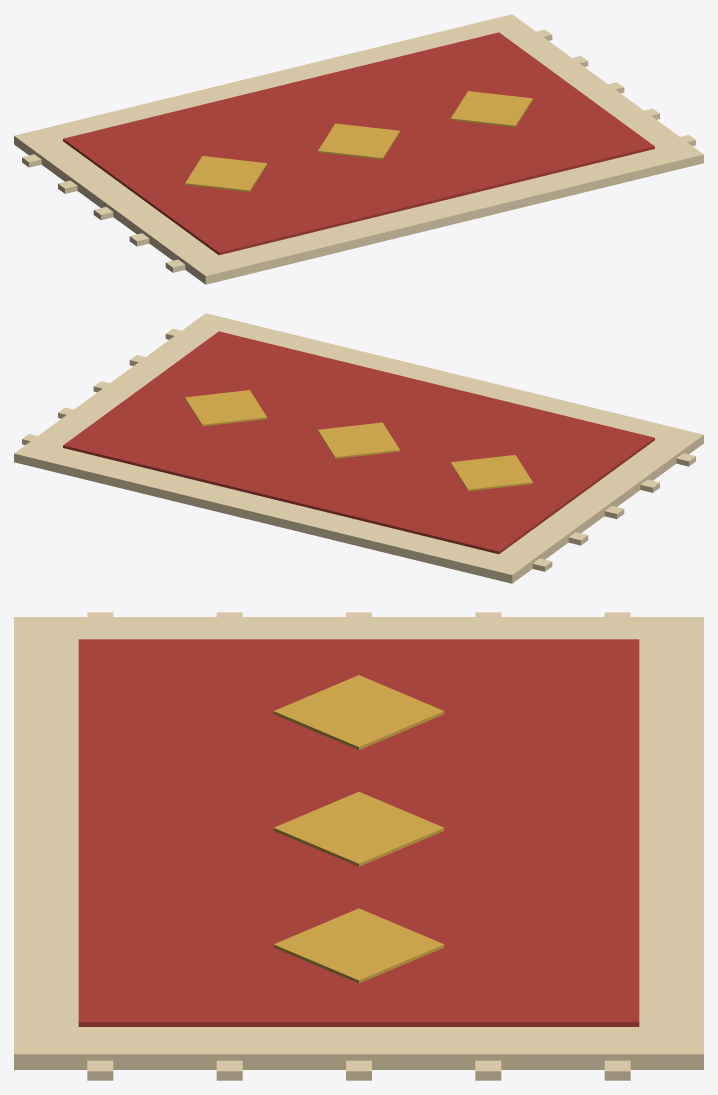
File: b-rug-red.glb
3 views of the same model, one above another, from view 1: azimuth 30°, elevation 25°; view 2: azimuth 150°, elevation 25°; view 3: azimuth 270°, elevation 25° (orthographic). The views are drawn at different scales.
Parts seen in each view (by area): view 1: b-rug-red; view 2: b-rug-red; view 3: b-rug-red.
Part boxes in pixels (<box>): b-rug-red: <box>14,14,703,284</box>; b-rug-red: <box>14,313,703,583</box>; b-rug-red: <box>14,612,703,1080</box>.
Bounding box in the file's own units: 1.26 × 0.03 × 0.8.
